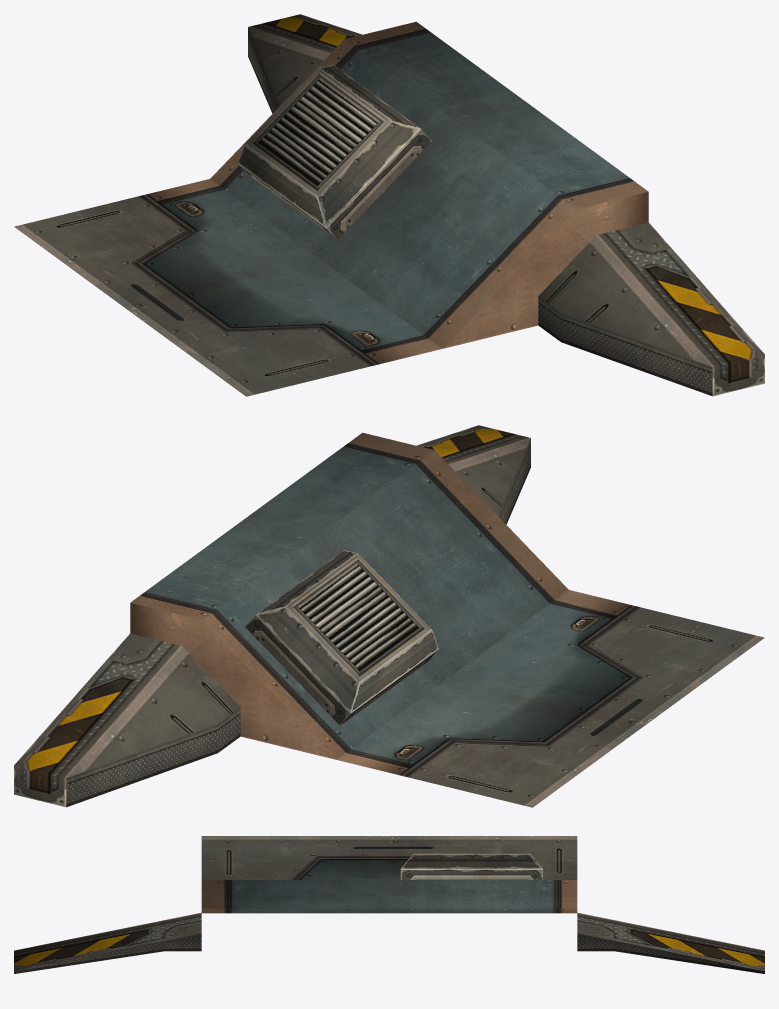
The model's file is mprw_ceiling_angle_wings.FBX.
3 views of the same model, one above another, from view 1: azimuth 30°, elevation 25°; view 2: azimuth 150°, elevation 25°; view 3: azimuth 270°, elevation 25° (orthographic). The views are drawn at different scales.
Visible parts, largest first — view 1: mprw_ceiling_angle_wings; view 2: mprw_ceiling_angle_wings; view 3: mprw_ceiling_angle_wings.
Boxes of the visible parts, left/top/right/bottom form: mprw_ceiling_angle_wings: left=14, top=14, right=764, bottom=396; mprw_ceiling_angle_wings: left=14, top=425, right=764, bottom=807; mprw_ceiling_angle_wings: left=14, top=836, right=764, bottom=973.
Size of the model in its own units: 700 by 187 by 1400.
Materials: 1 (1 with a texture image).
